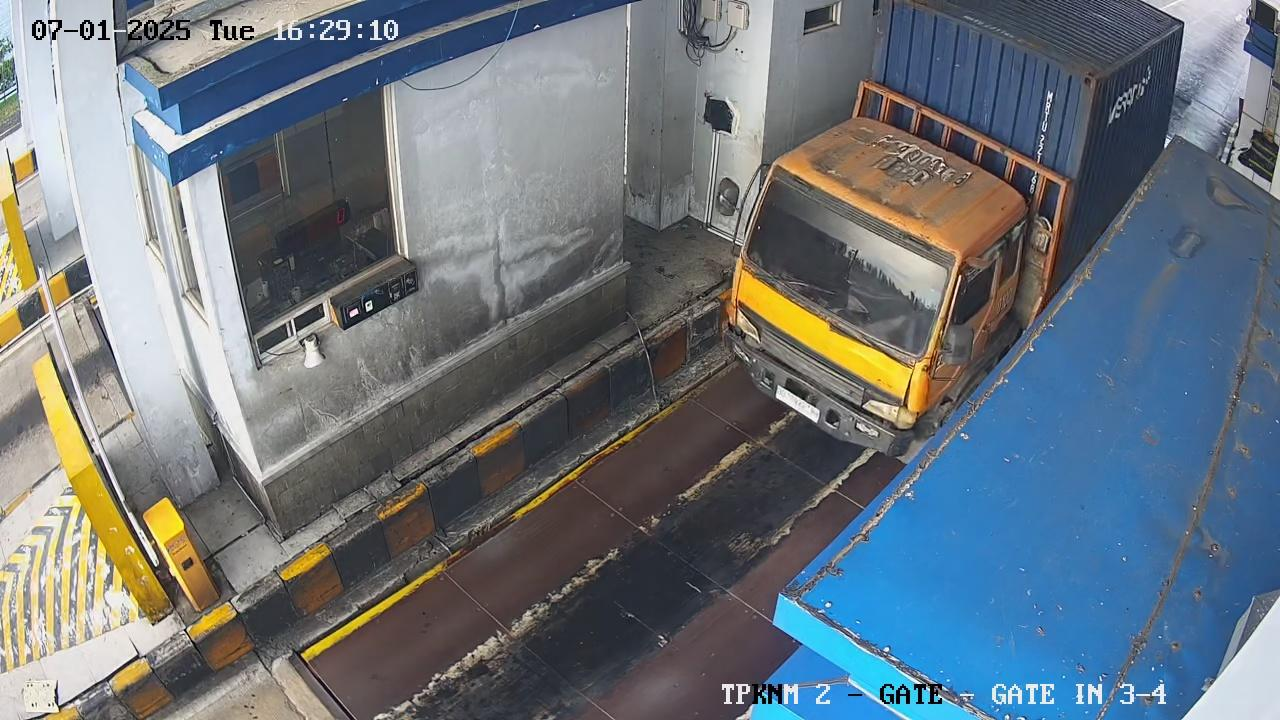Container_ID_Vertikal: (1030, 73, 1080, 176), (1012, 169, 1038, 197)
